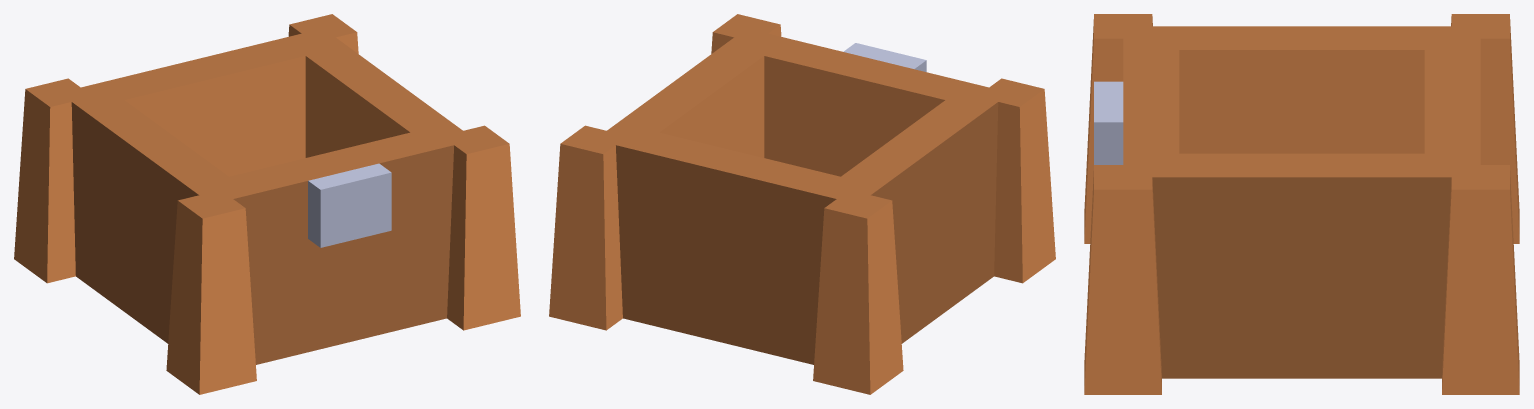
File: chest.glb
3 renders of one model, left to right at view 1: azimuth 30°, elevation 25°; view 2: azimuth 150°, elevation 25°; view 3: azimuth 270°, elevation 25°, orthographic. The views are drawn at different scales.
Parts seen in each view (by area): view 1: chest.003; view 2: chest.003; view 3: chest.003.
Part boxes in pixels (left/top/right/bottom): chest.003: left=14, top=14, right=520, bottom=394; chest.003: left=549, top=14, right=1055, bottom=394; chest.003: left=1084, top=14, right=1519, bottom=394.
Size of the model in its own units: 0.2604 by 0.1328 by 0.2604.
